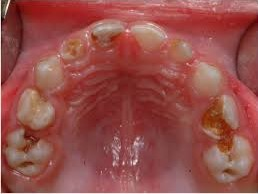UL1BC_decay: (206, 97, 240, 135)
UL2BC_decay: (210, 138, 254, 179)
ULCI_healthy: (131, 22, 166, 54)
ULC_healthy: (193, 63, 224, 97)
ULLI_healthy: (169, 38, 193, 66)
UR1BC_healthy: (18, 92, 56, 126)
UR2BC_decay: (7, 128, 53, 175)
URCI_decay: (92, 20, 128, 45)
URC_healthy: (33, 60, 67, 89)
URLI_decay: (63, 36, 91, 62)
